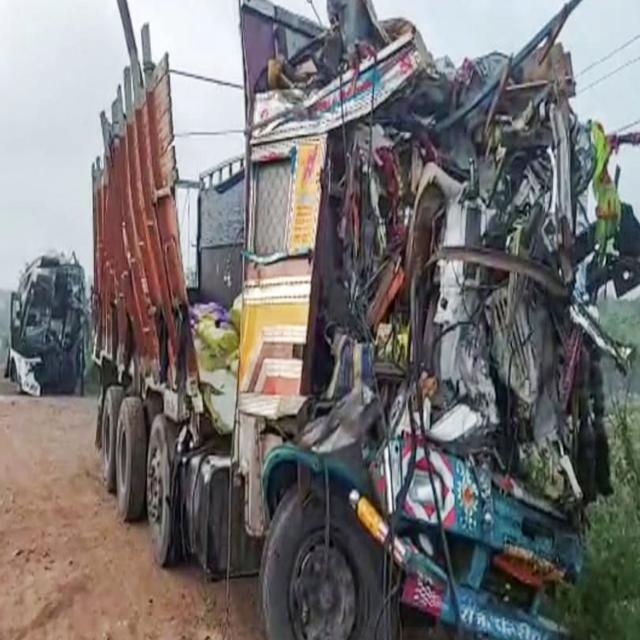accident: (92, 0, 640, 638)
